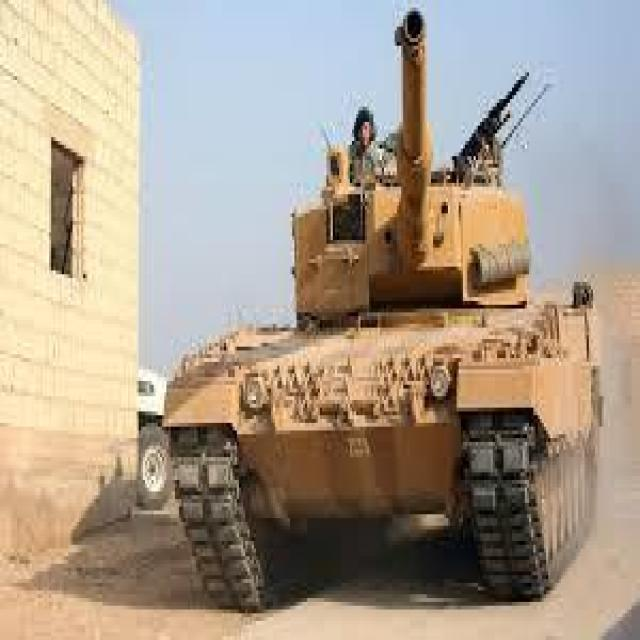Tanks: (147, 70, 604, 604)
